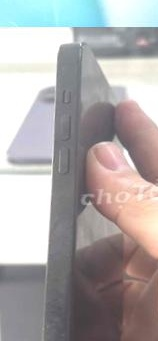scratch: (26, 280, 103, 341), (55, 48, 73, 81)
